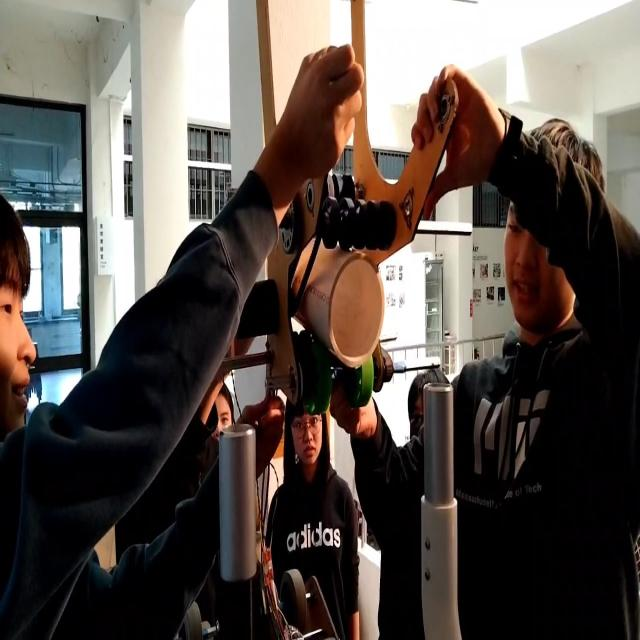CORAL: (297, 224, 386, 374)
